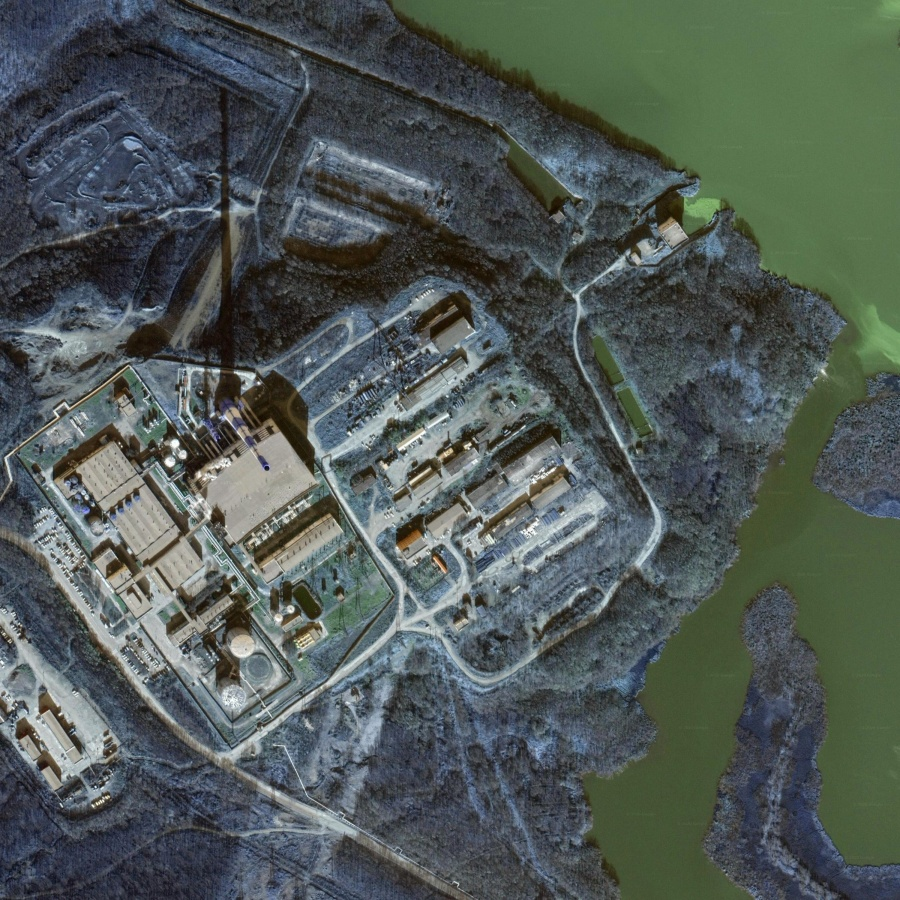PowerPlant: (51, 350, 366, 714)
